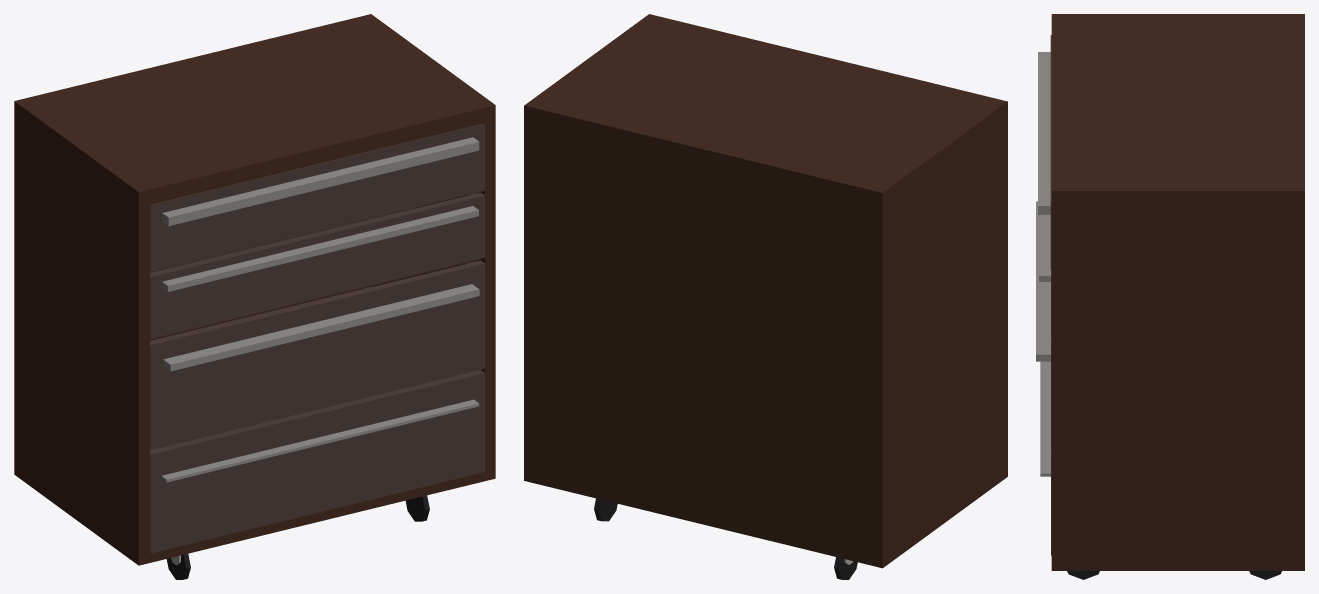
File: ToolBox fixed.fbx
3 renders of one model, left to right at view 1: azimuth 30°, elevation 25°; view 2: azimuth 150°, elevation 25°; view 3: azimuth 270°, elevation 25°, orthographic.
Visible parts, largest first — view 1: ToolBox02, Box03, Box04_001, Box01, Box02; view 2: ToolBox02; view 3: ToolBox02, Box01, Box03, Box04_001, Box02.
Boxes of the visible parts, x1,y1,x2,y2 form: ToolBox02: [14, 14, 495, 579]; Box03: [150, 260, 484, 449]; Box04_001: [150, 370, 484, 553]; Box01: [150, 123, 484, 272]; Box02: [150, 192, 484, 339]; ToolBox02: [524, 14, 1007, 579]; ToolBox02: [1051, 14, 1304, 579]; Box01: [1038, 35, 1051, 269]; Box03: [1036, 201, 1051, 450]; Box04_001: [1040, 361, 1051, 555]; Box02: [1039, 215, 1051, 337].
Size of the model in its own units: 96 by 106 by 61.63.
